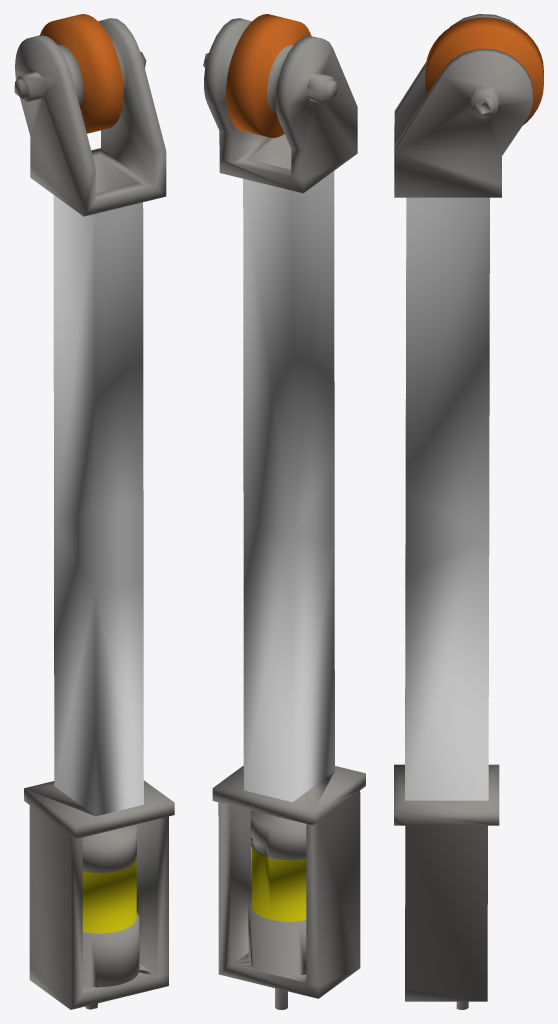
The model's file is codo.obj.
3 renders of one model, left to right at view 1: azimuth 30°, elevation 25°; view 2: azimuth 150°, elevation 25°; view 3: azimuth 270°, elevation 25°, orthographic.
Size of the model in its own units: 66 by 494 by 68.27.
